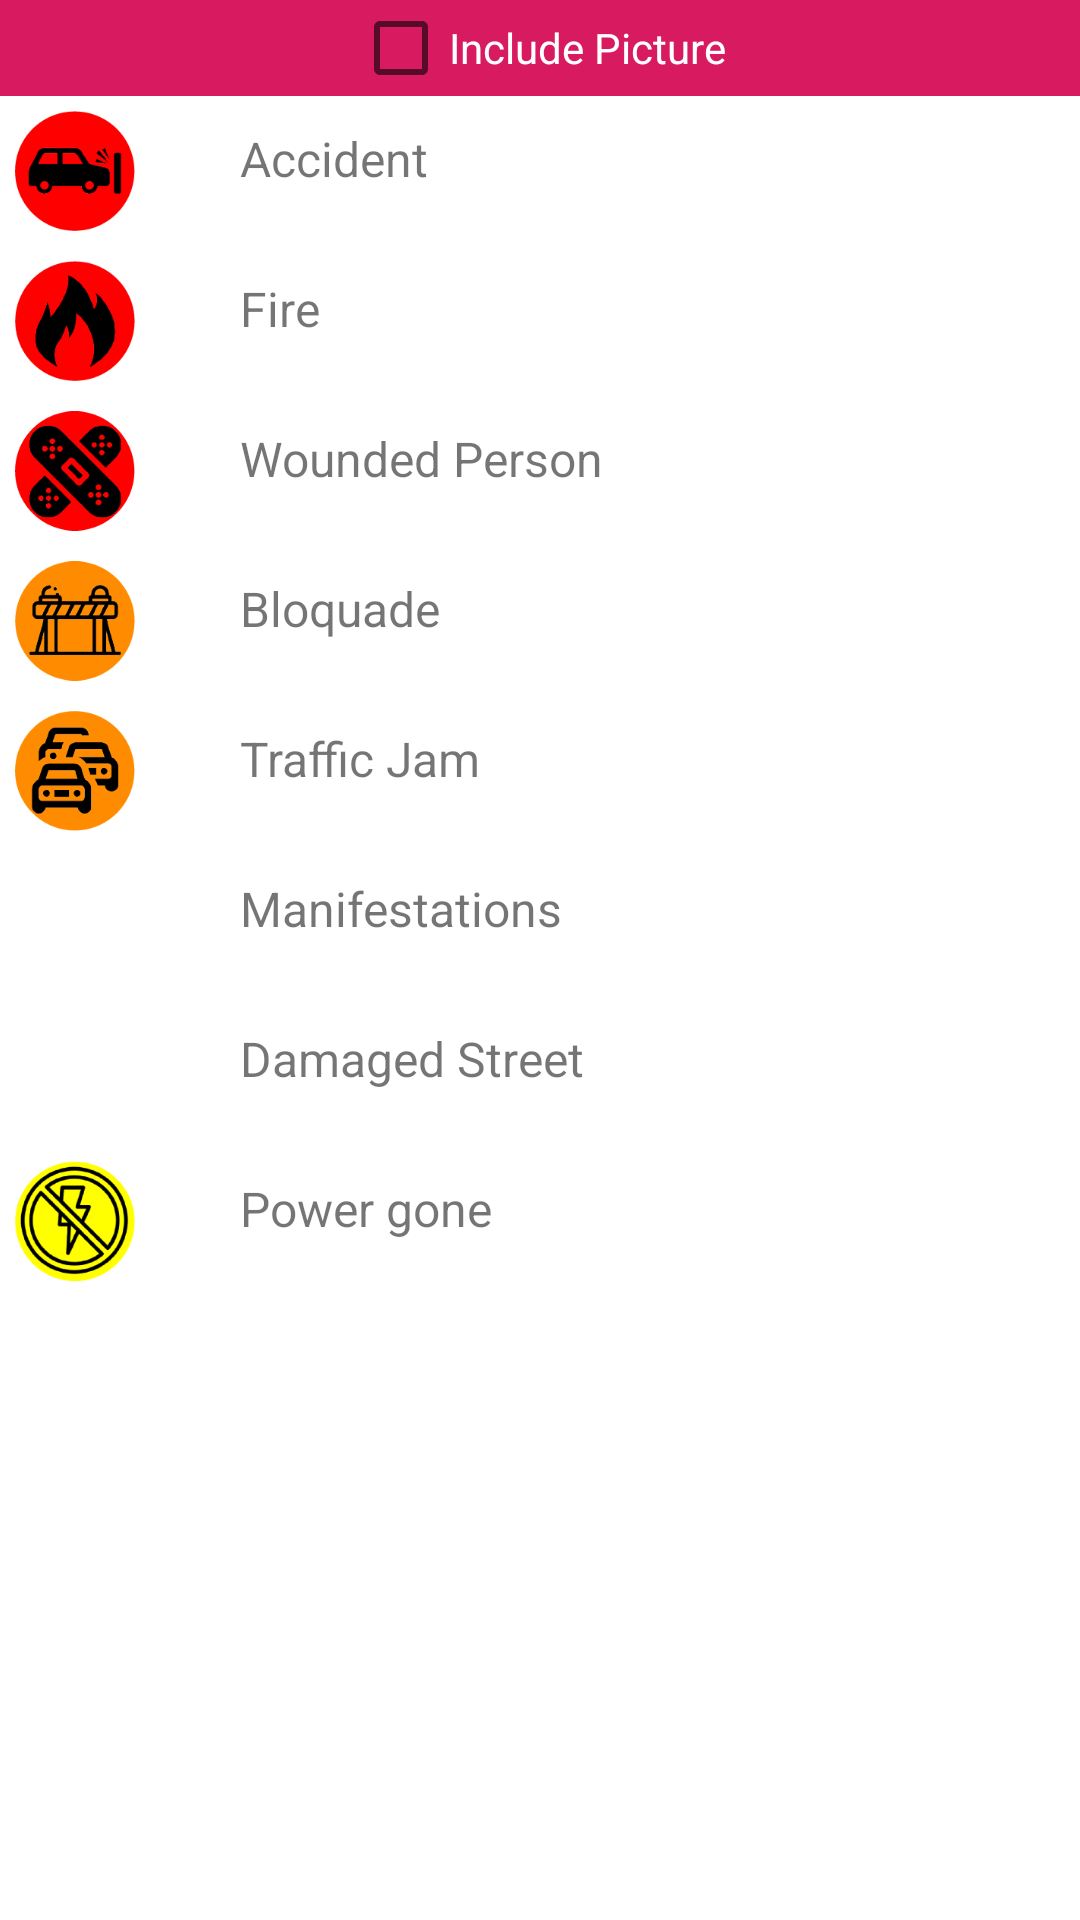

Screen size 1080px x 1920px. Icon name, then its box in pixels as (x1, y1, x2, y2):
type blocked: (15, 561, 135, 681)
type power cut: (15, 1161, 135, 1281)
type traffic: (15, 711, 135, 831)
type wounded: (15, 411, 135, 531)
